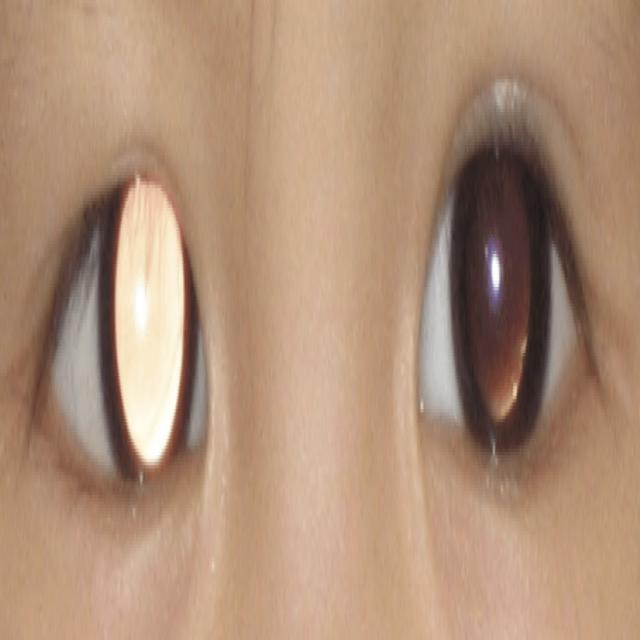reflexo-alterado: (441, 96, 552, 551), (83, 155, 208, 541)
